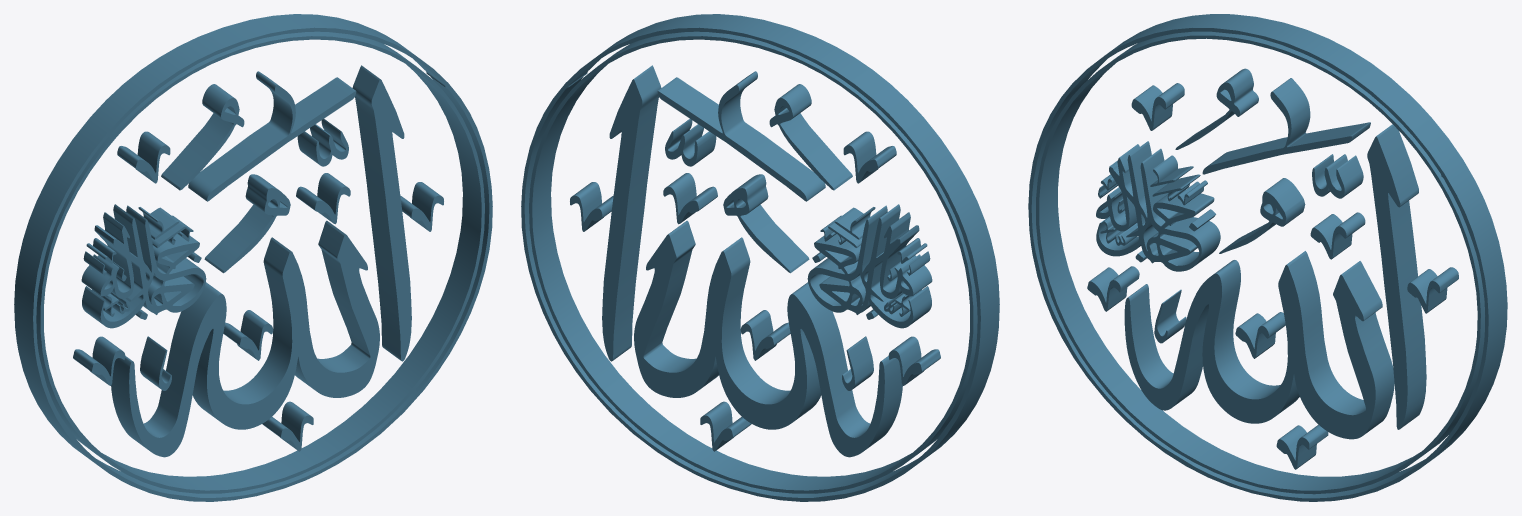
Rendered from Allah.glb.
3 renders of one model, left to right at view 1: azimuth 30°, elevation 25°; view 2: azimuth 150°, elevation 25°; view 3: azimuth 330°, elevation 25°, orthographic.
Parts seen in each view (by area): view 1: Extrude_1; view 2: Extrude_1; view 3: Extrude_1.
Part boxes in pixels (<box>): Extrude_1: <box>14,14,492,501</box>; Extrude_1: <box>521,14,999,501</box>; Extrude_1: <box>1028,14,1507,501</box>.
Bounding box in the file's own units: 563 × 537 × 40.
